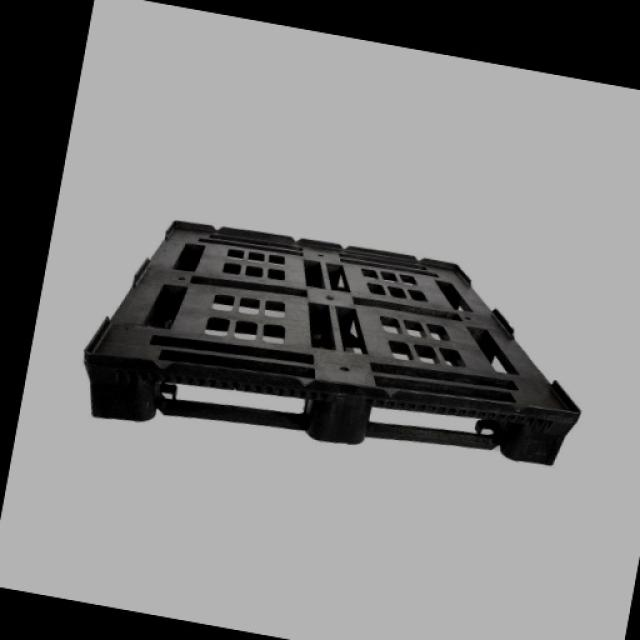non-igps: (75, 210, 590, 486)
